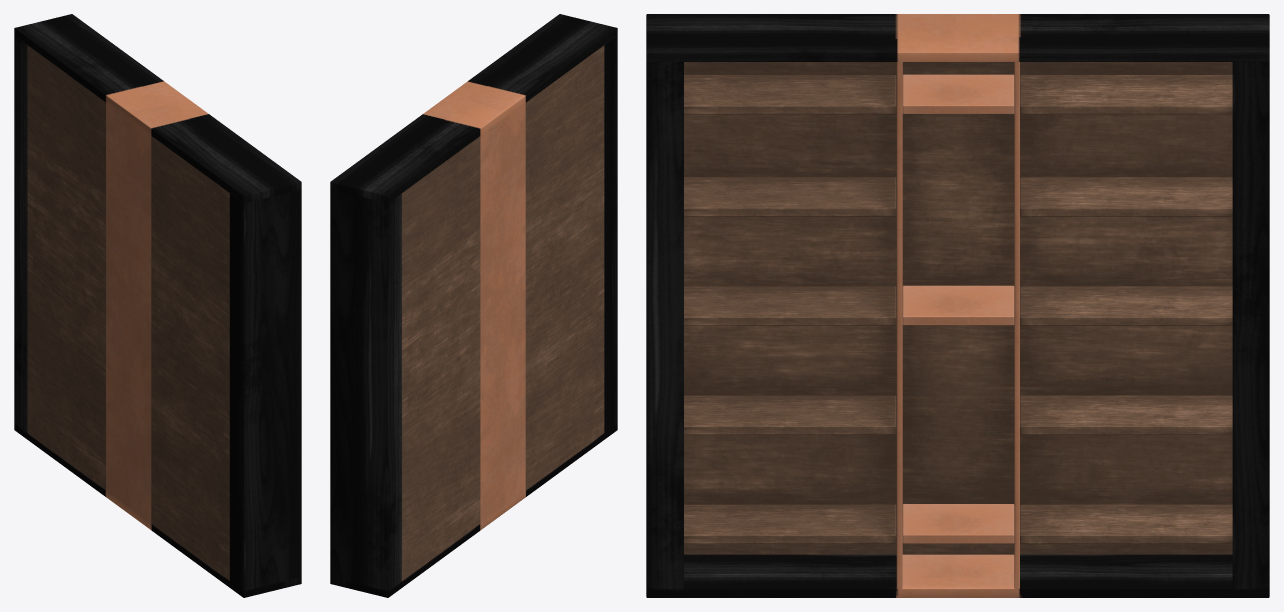
File: delux_bookshelf.glb
3 renders of one model, left to right at view 1: azimuth 30°, elevation 25°; view 2: azimuth 150°, elevation 25°; view 3: azimuth 270°, elevation 25°, orthographic. The views are drawn at different scales.
Visible parts, largest first — view 1: lux_shelf; view 2: lux_shelf; view 3: lux_shelf.
Boxes of the visible parts, x1,y1,x2,y2 form: lux_shelf: (14,14,301,597); lux_shelf: (330,14,617,597); lux_shelf: (646,14,1269,597).
Size of the model in its own units: 0.2937 by 1.93 by 2.
Materials: 1 (1 with a texture image).
